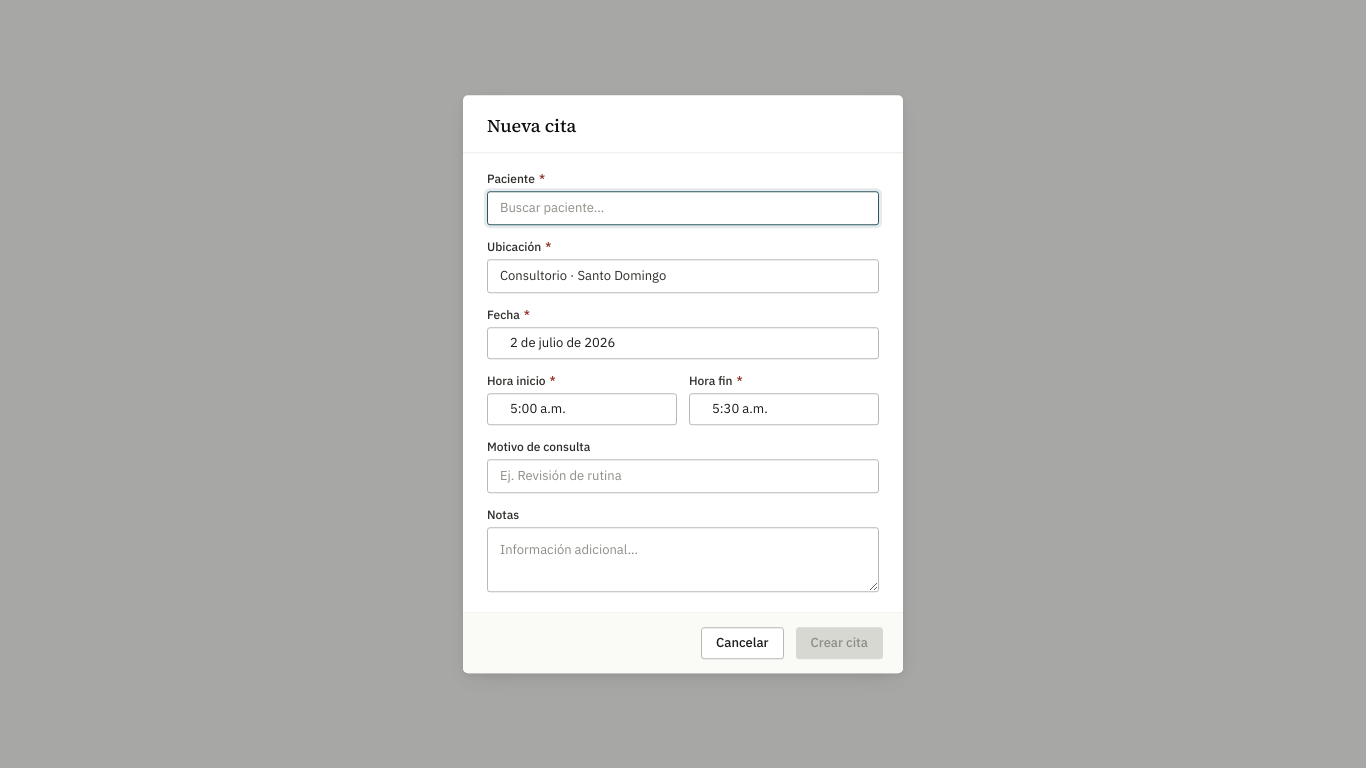
Test: AppointmentFormModal + PatientCombobox integration › creates a patient inline from the booking picker and selects it in the form
The width and height of the screenshot is (1366, 768).
Click the field with placeholder "Buscar paciente..." at (683, 208), box [487,191,879,225]
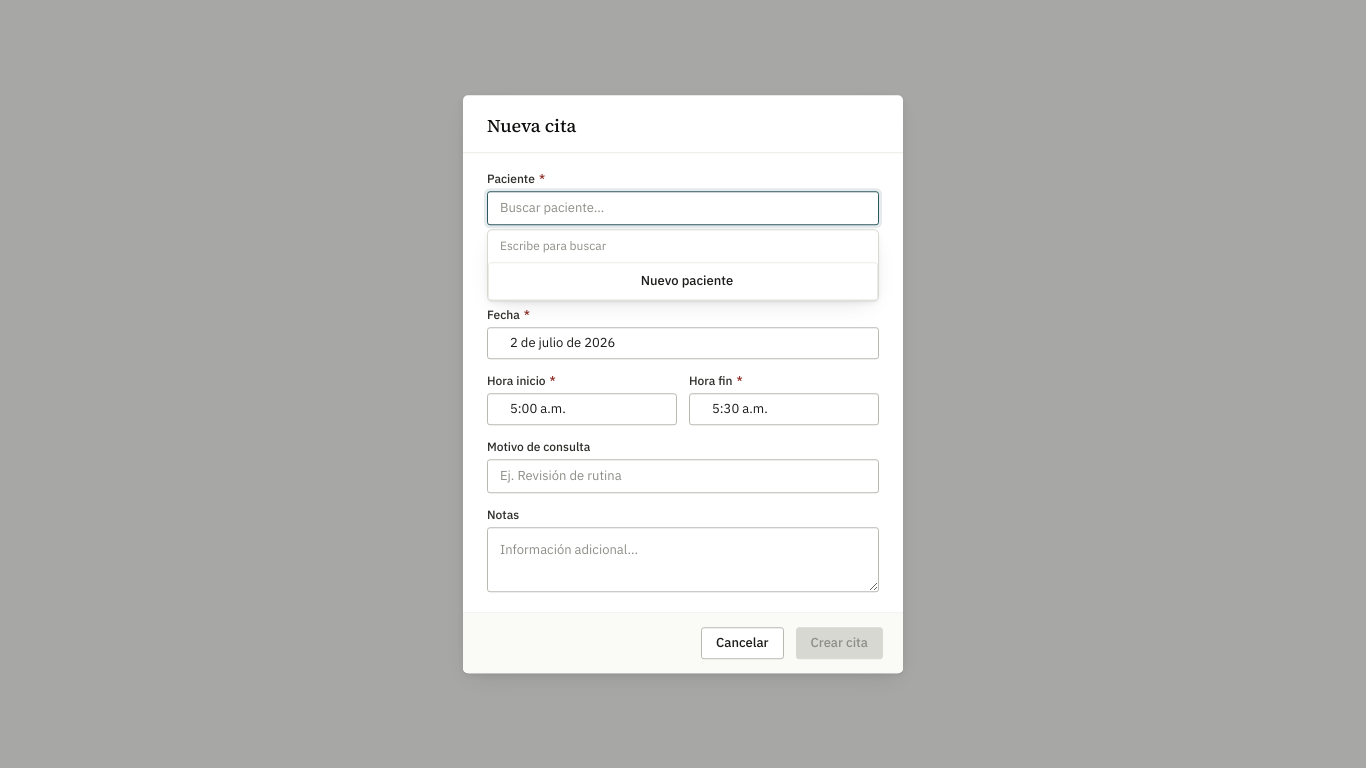
Click the button "Nuevo paciente" at (683, 281), box [488,262,878,300]
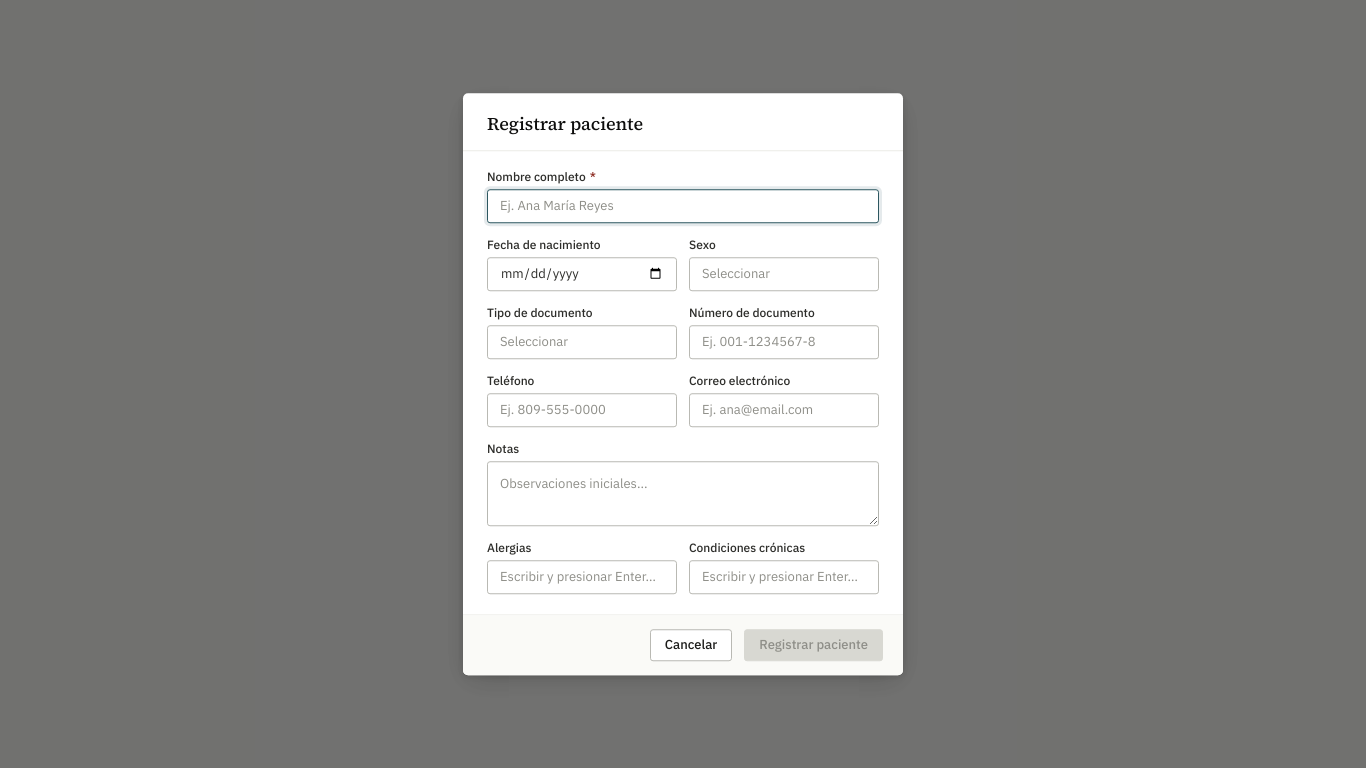
Check: the heading "Registrar paciente" is shown, box [487,111,643,136]
Type "Luis Pérez" into the field with placeholder "Ej. Ana María Reyes" at (683, 206), box [487,189,879,223]
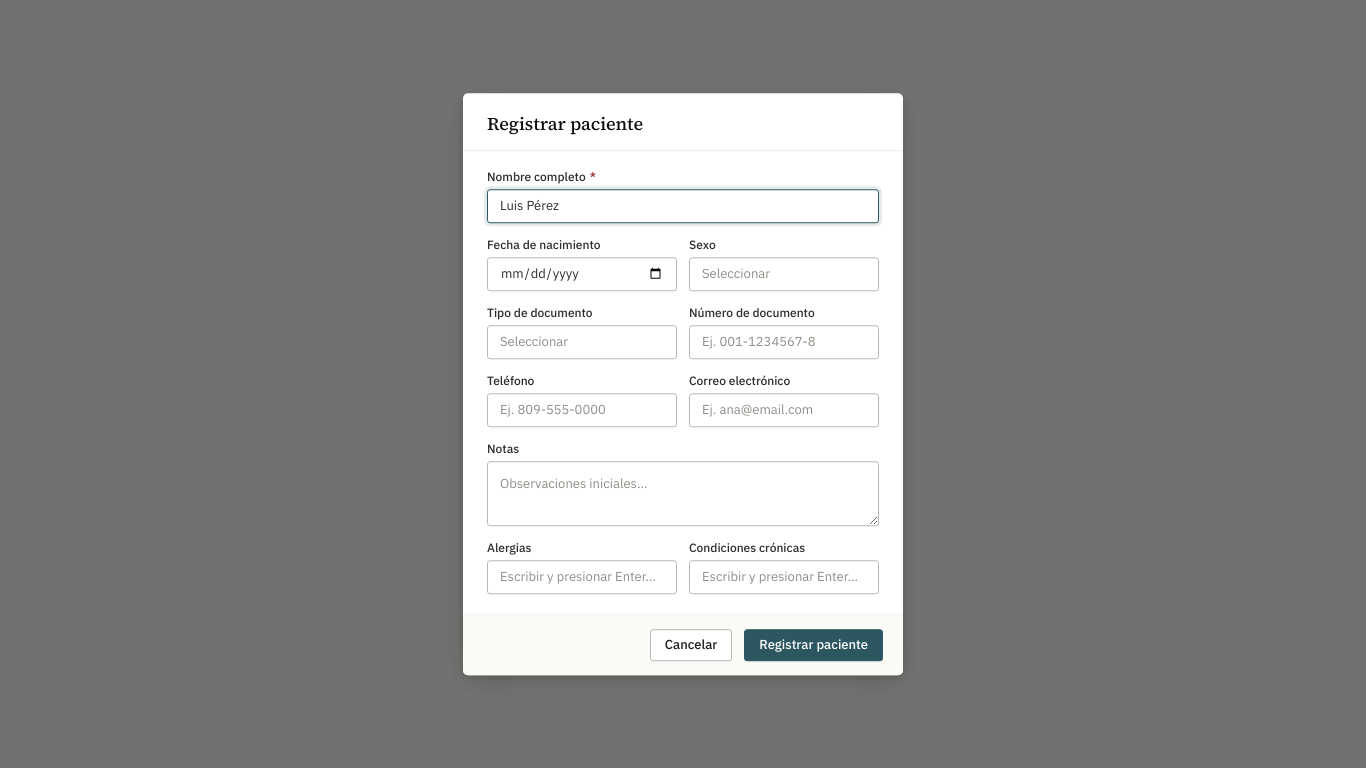
Click the button "Registrar paciente" at (814, 645), box [744,629,883,661]
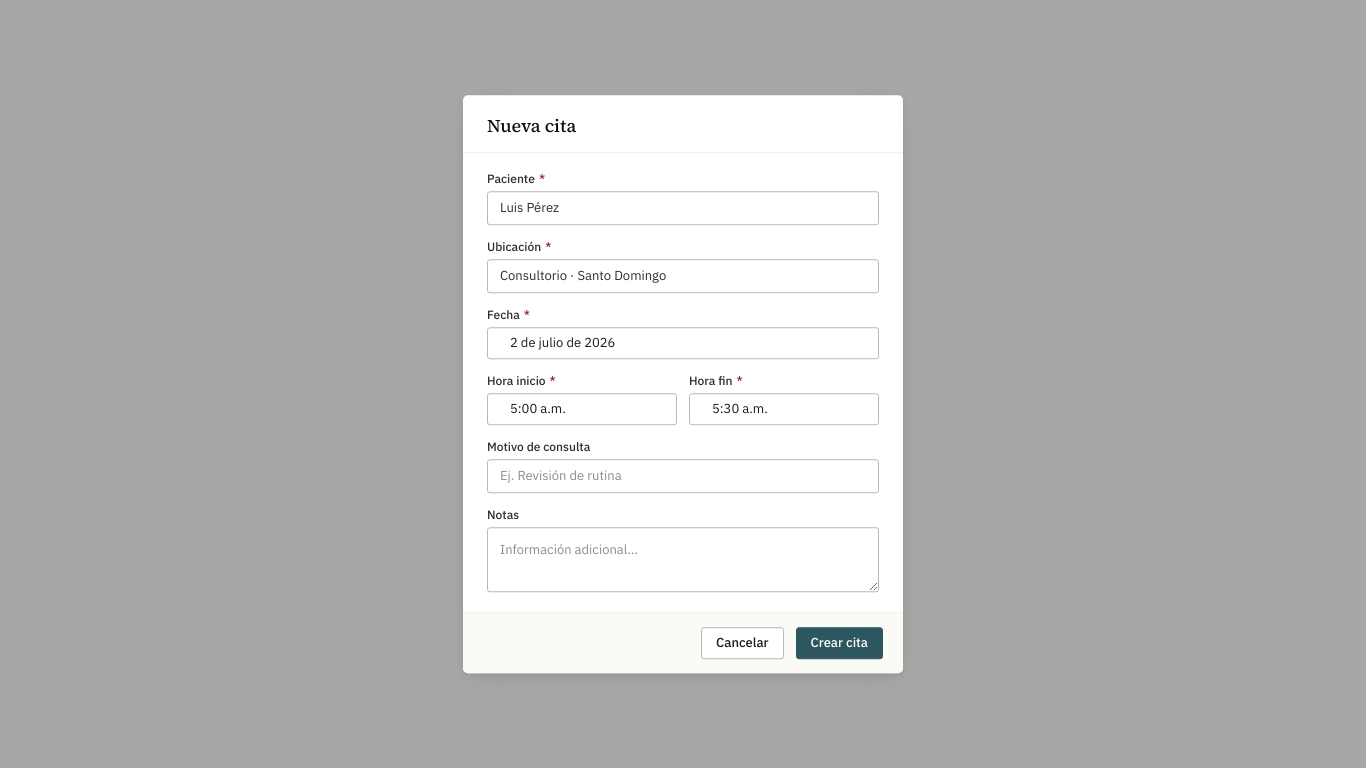
Check: the heading "Registrar paciente" is gone
Check: the field showing "Luis Pérez" is shown, box [487,191,879,225]
